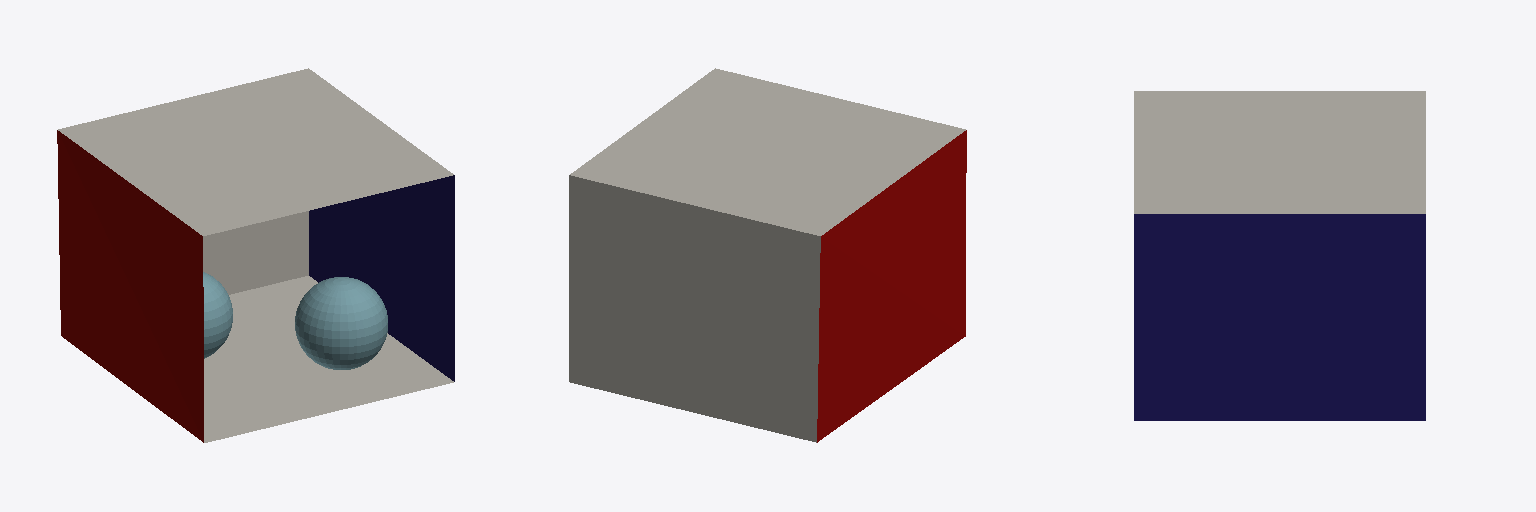
File: CornellBox-Glossy2.obj
The picture shows the model from 3 angles: view 1: azimuth 30°, elevation 25°; view 2: azimuth 150°, elevation 25°; view 3: azimuth 270°, elevation 25°; orthographic projection.
Visible parts, largest first — view 1: ceiling, leftWall, floor, rightWall, rightSphere, backWall, leftSphere; view 2: backWall, ceiling, leftWall; view 3: rightWall, ceiling.
Part boxes in pixels (x1,y1,x2,y2): ceiling: (58,68,453,235); leftWall: (57,130,203,442); floor: (204,276,453,442); rightWall: (309,175,454,381); rightSphere: (295,277,387,369); backWall: (203,211,308,294); leftSphere: (203,272,232,358); backWall: (569,175,820,442); ceiling: (570,68,965,235); leftWall: (817,130,966,442); rightWall: (1134,214,1425,420); ceiling: (1134,91,1425,213).
Bounding box in the file's own units: 2.02 × 1.59 × 2.03.